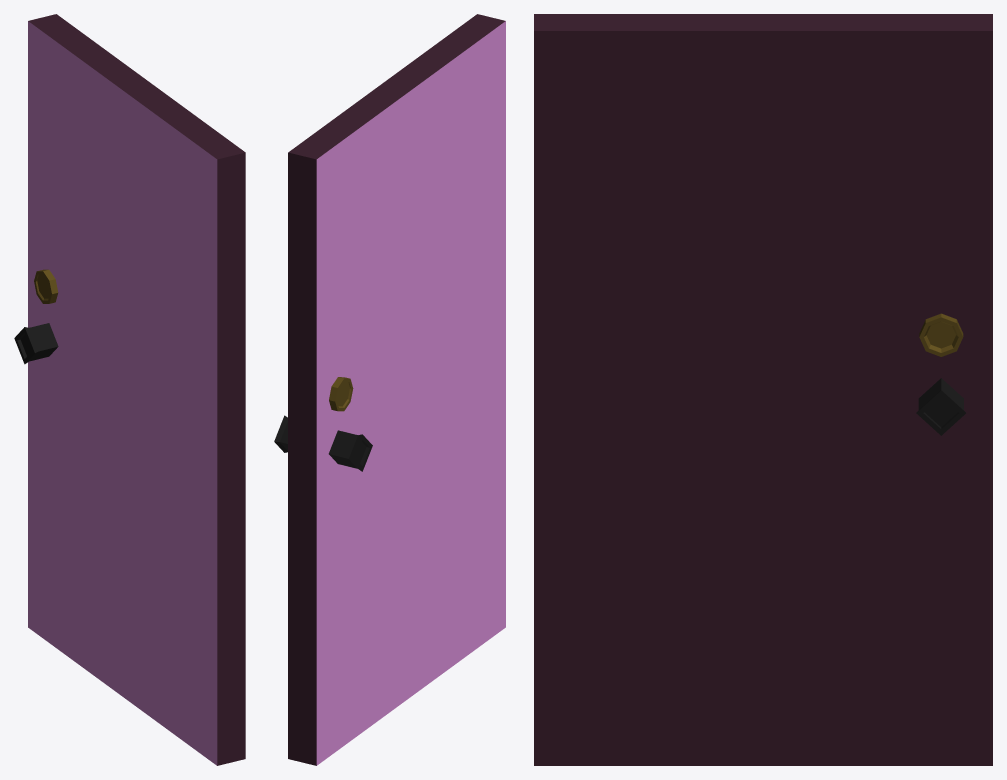
File: EnterDoor (1).fbx
The picture shows the model from 3 angles, left to right: view 1: azimuth 30°, elevation 25°; view 2: azimuth 150°, elevation 25°; view 3: azimuth 270°, elevation 25°; orthographic projection. The views are drawn at different scales.
Visible parts, largest first — view 1: Cube.001; view 2: Cube.001; view 3: Cube.001.
Boxes of the visible parts, left/top/right/bottom form: Cube.001: left=14, top=14, right=245, bottom=765; Cube.001: left=274, top=14, right=505, bottom=765; Cube.001: left=534, top=14, right=992, bottom=765.
Size of the model in its own units: 24.97 by 185 by 105.
